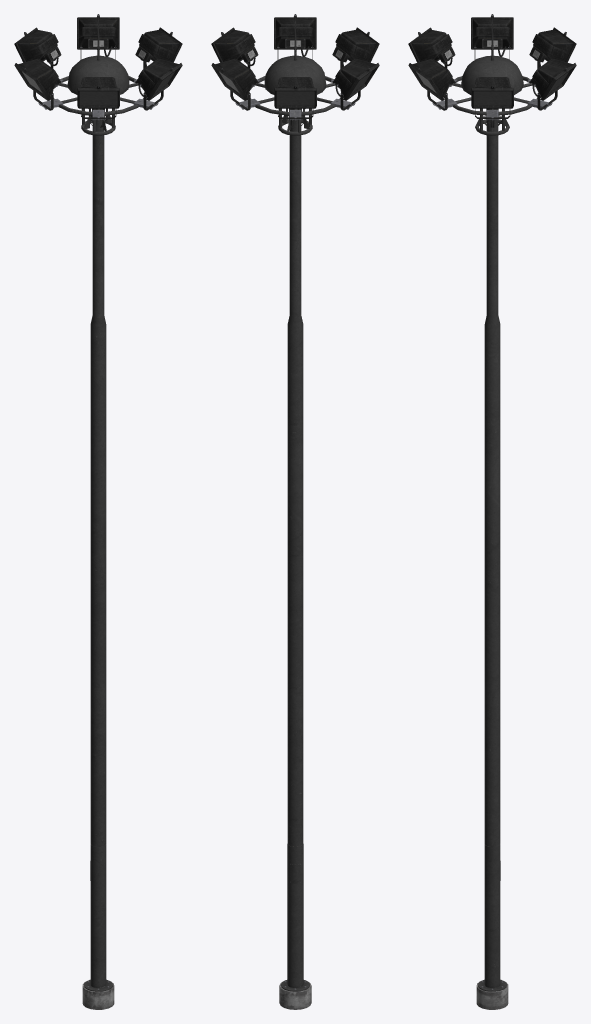
The model's file is SM_FloodLight_2.fbx.
3 renders of one model, left to right at view 1: azimuth 30°, elevation 25°; view 2: azimuth 150°, elevation 25°; view 3: azimuth 270°, elevation 25°, orthographic.
Parts seen in each view (by area): view 1: SM_FloodLight_2_LOD0; view 2: SM_FloodLight_2_LOD0; view 3: SM_FloodLight_2_LOD0.
Boxes of the visible parts, <box> form: SM_FloodLight_2_LOD0: <box>14,14,182,1009</box>; SM_FloodLight_2_LOD0: <box>211,14,379,1009</box>; SM_FloodLight_2_LOD0: <box>408,14,576,1009</box>.
Size of the model in its own units: 176 by 173 by 1117.
Materials: 3 (2 with a texture image).
